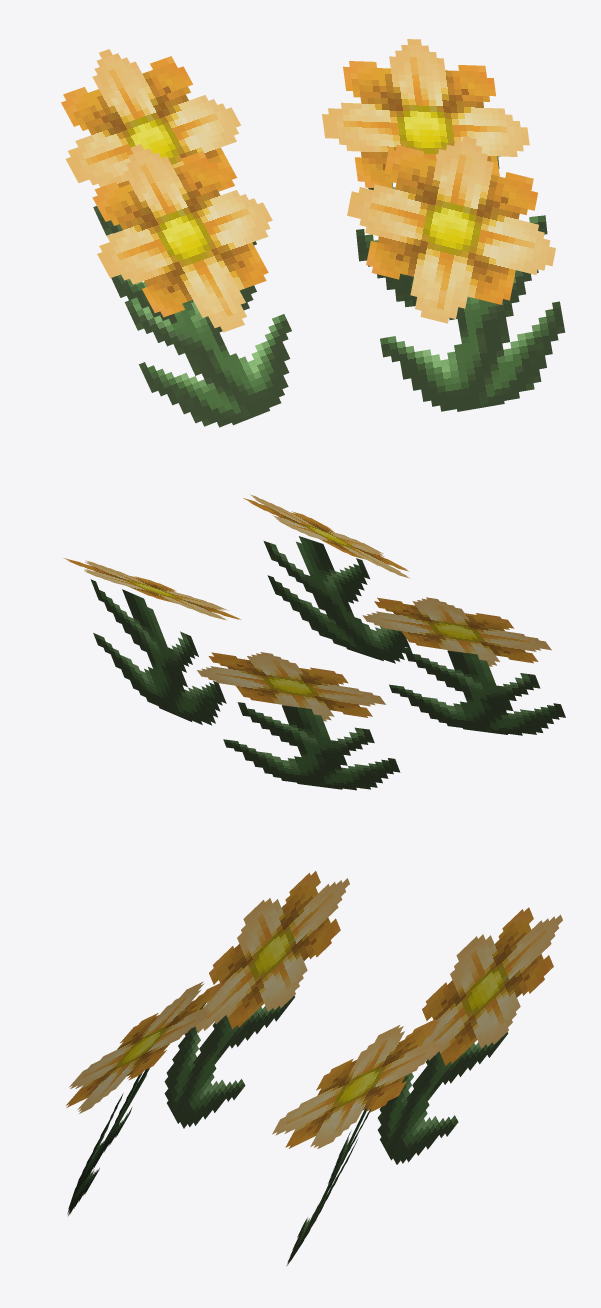
The model's file is Flower_003.fbx.
3 renders of one model, top to bottom at view 1: azimuth 30°, elevation 25°; view 2: azimuth 150°, elevation 25°; view 3: azimuth 270°, elevation 25°, orthographic. The views are drawn at different scales.
Visible parts, largest first — view 1: It_019_Flower_003; view 2: It_019_Flower_003; view 3: It_019_Flower_003.
Boxes of the visible parts, x1=… form: It_019_Flower_003: x1=61, y1=39, x2=565, y2=427; It_019_Flower_003: x1=63, y1=494, x2=565, y2=790; It_019_Flower_003: x1=66, y1=871, x2=562, y2=1265.
Bounding box in the file's own units: 0.9733 × 0.4398 × 0.9232.
